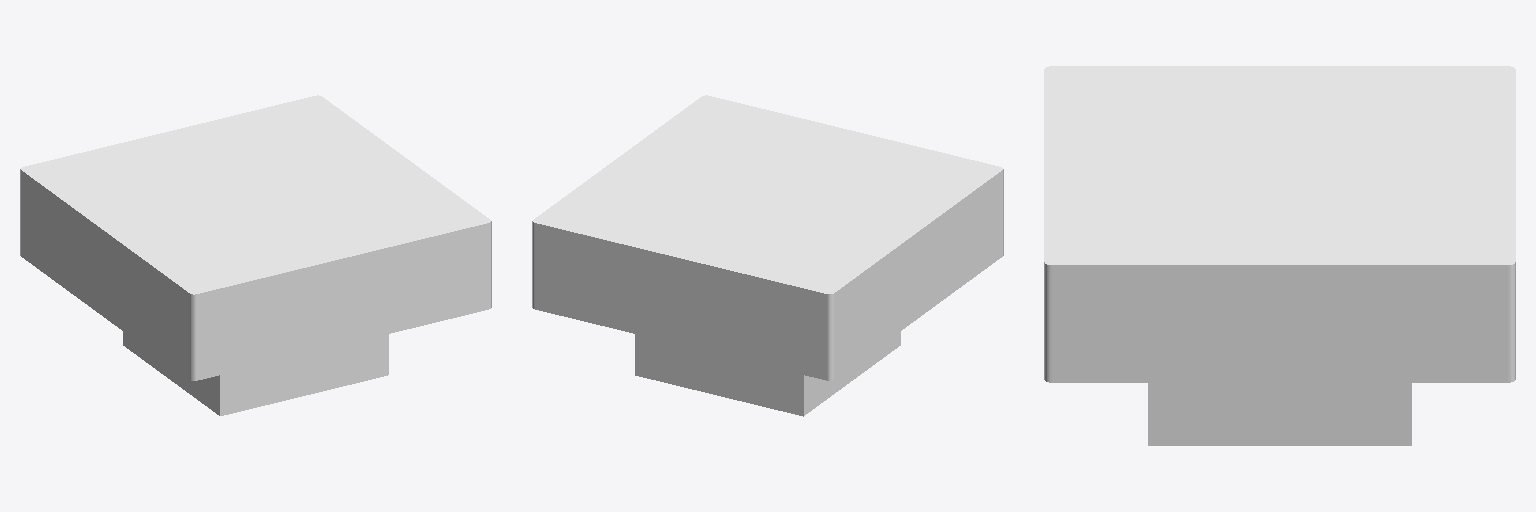
robot.urdf — square.urdf:
<?xml version="1.0" ?>
<robot name="square.urdf">

  <link name="base">
    <contact>
    	<friction_anchor/>
    	<lateral_friction value="1.0"/>
    </contact>
    <inertial>
      <origin rpy="0 0 0" xyz="0 0 0"/>
       <mass value=".1"/>
       <inertia ixx="1" ixy="0" ixz="0" iyy="1" iyz="0" izz="1"/>
    </inertial>
    <visual>
      <origin rpy="0 0 0" xyz="0 0 0"/>
      <geometry>
				<box size="0.056 0.056 0.025"/>
      </geometry>
       <material name="white">
        <color rgba="1.0 1.0 1.0 1"/>
      </material>
    </visual>
    <collision>
      <origin rpy="0 0 0" xyz="0 0 0"/>
      <geometry>
        <box size="0.056 0.056 0.025"/>
      </geometry>
    </collision>
  </link>

  <link name="square">
    <contact>
    	<friction_anchor/>
    	<lateral_friction value="1.0"/>
    </contact>
    <inertial>
      <origin rpy="0 0 0" xyz="0 0 0"/>
       <mass value=".1"/>
       <inertia ixx="1" ixy="0" ixz="0" iyy="1" iyz="0" izz="1"/>
    </inertial>
    <visual>
      <origin rpy="0 0 0" xyz="0 0 0"/>
      <geometry>
				<!-- <box size="0.1 0.1 0.0275"/> -->
        <mesh filename="square.obj" scale="1.0 1.0 1.0"/>
      </geometry>
       <material name="white">
        <color rgba="1.0 1.0 1.0 1"/>
      </material>
    </visual>
    <collision>
      <origin rpy="0 0 0" xyz="0 0 0"/>
      <geometry>
        <!-- <box size="0.1 0.1 0.0275"/> -->
        <mesh filename="square.obj" scale="1.0 1.0 1.0"/>
      </geometry>
    </collision>
  </link>

  <joint name="base_joint" type="fixed">
     <origin xyz="0 0 0.0125" rpy="0 0 0"/>
     <axis xyz="0 0 1"/>
     <parent link="base"/>
     <child link="square"/>
  </joint>

</robot>

--- Facts derived from the render (not from the file) ---
The picture shows the robot from 3 angles, left to right: view 1: azimuth 30°, elevation 25°; view 2: azimuth 150°, elevation 25°; view 3: azimuth 270°, elevation 25°; orthographic projection.
Model square.urdf with 2 links and 1 joints (1 fixed), rooted at base, posed every joint at zero.
Links seen in each view (by area): view 1: square, base; view 2: square, base; view 3: square, base.
Boxes of the visible links, x1,y1,x2,y2 form: square: (20, 95, 491, 380); base: (123, 332, 388, 415); square: (532, 95, 1003, 380); base: (635, 331, 900, 416); square: (1044, 66, 1515, 382); base: (1148, 383, 1411, 445).
Bounding box of the posed robot: 0.1 × 0.1 × 0.0525 m (x, y, z).
Meshes: 1 distinct files referenced, 1 mesh visuals loaded (1 OBJ).